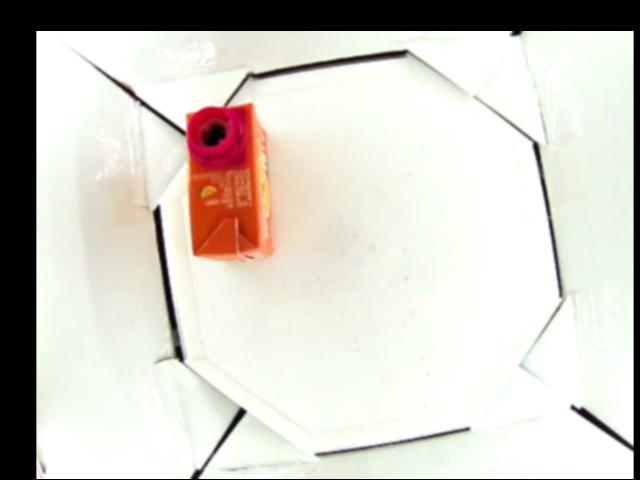Bottle: (183, 101, 274, 261)
